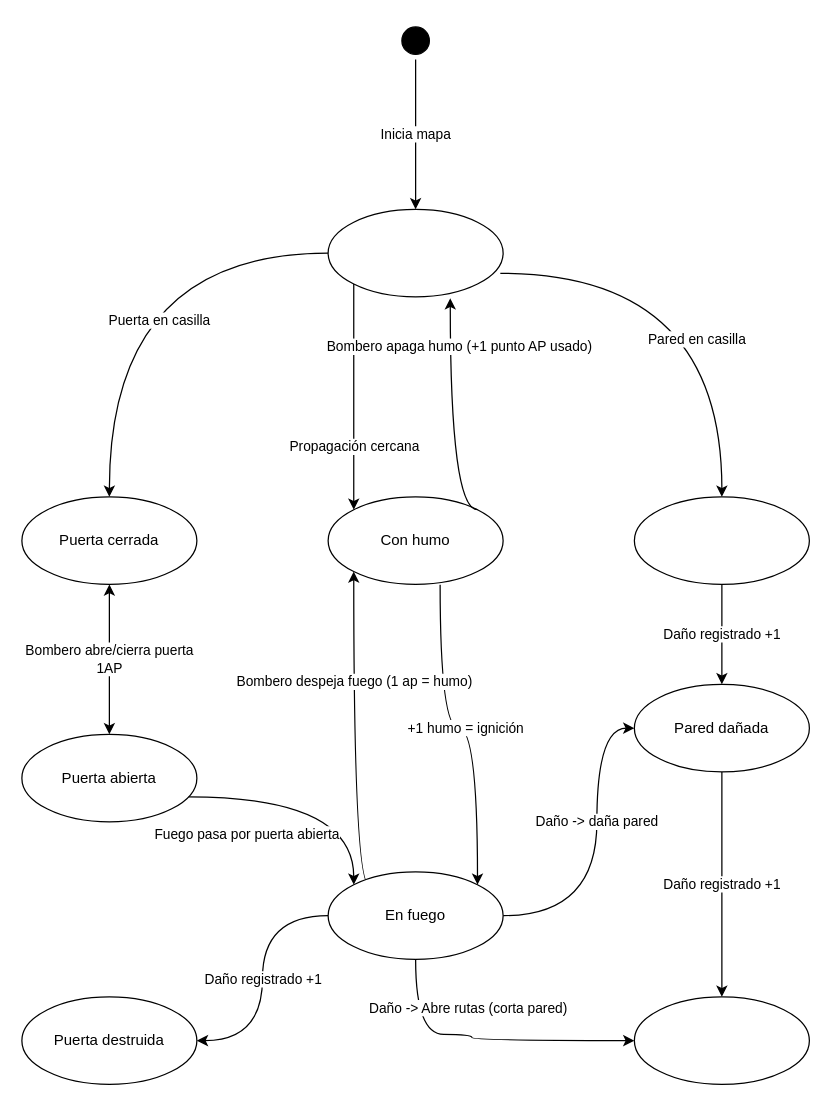
This 831x1106 diagram has some shape labels left out. Here are the shapes that lost their labels. From the top down, the centre of each, then its label:
At point (415, 252): "Casilla limpia".
At point (721, 540): "Pared intacta".
At point (721, 1040): "Pared Destruida".
